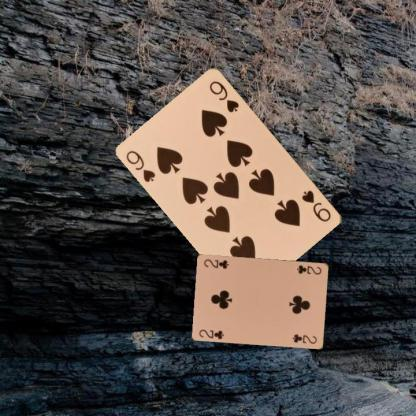2c: (196, 326, 226, 340), (294, 262, 323, 276)
9s: (299, 187, 333, 223), (124, 148, 157, 184)
